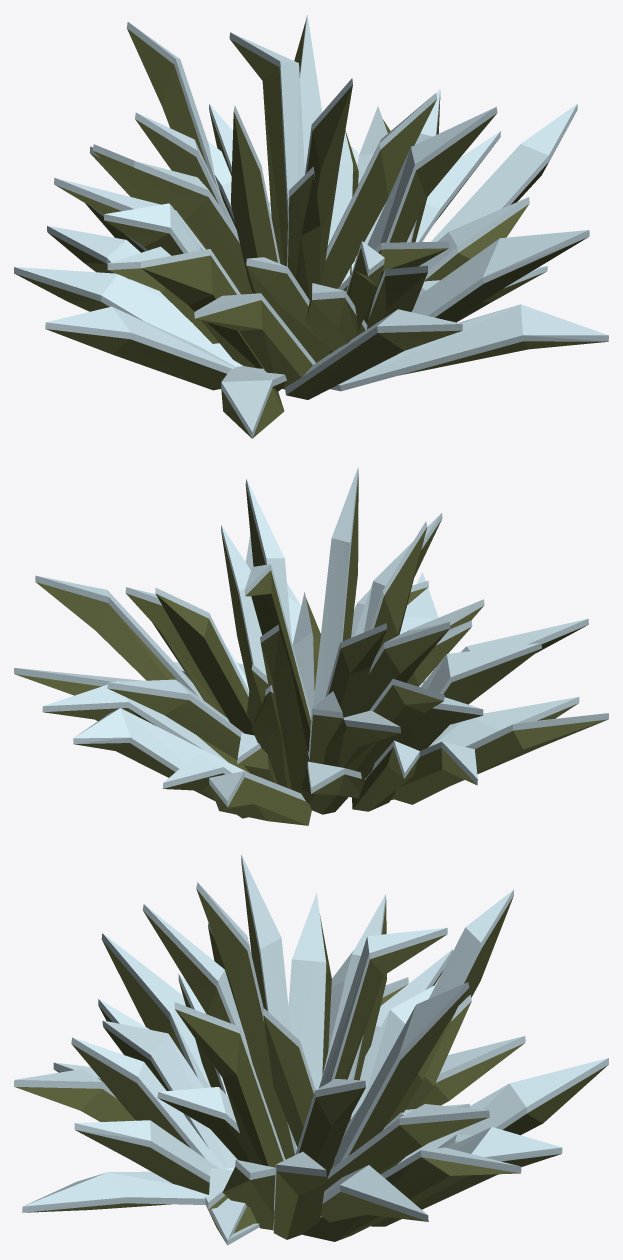
File: Cesped_Grande02.glb
The picture shows the model from 3 angles, top to bottom: view 1: azimuth 30°, elevation 25°; view 2: azimuth 150°, elevation 25°; view 3: azimuth 270°, elevation 25°; orthographic projection. The views are drawn at different scales.
Visible parts, largest first — view 1: SM_Env_Grass_Large_02_Snow; view 2: SM_Env_Grass_Large_02_Snow; view 3: SM_Env_Grass_Large_02_Snow.
Part boxes in pixels (x1,y1,x2,y2): SM_Env_Grass_Large_02_Snow: (14,14,608,438); SM_Env_Grass_Large_02_Snow: (14,467,608,825); SM_Env_Grass_Large_02_Snow: (14,854,608,1245).
Size of the model in its own units: 2.71 by 1.39 by 2.38.
1 material, 1 textured.
